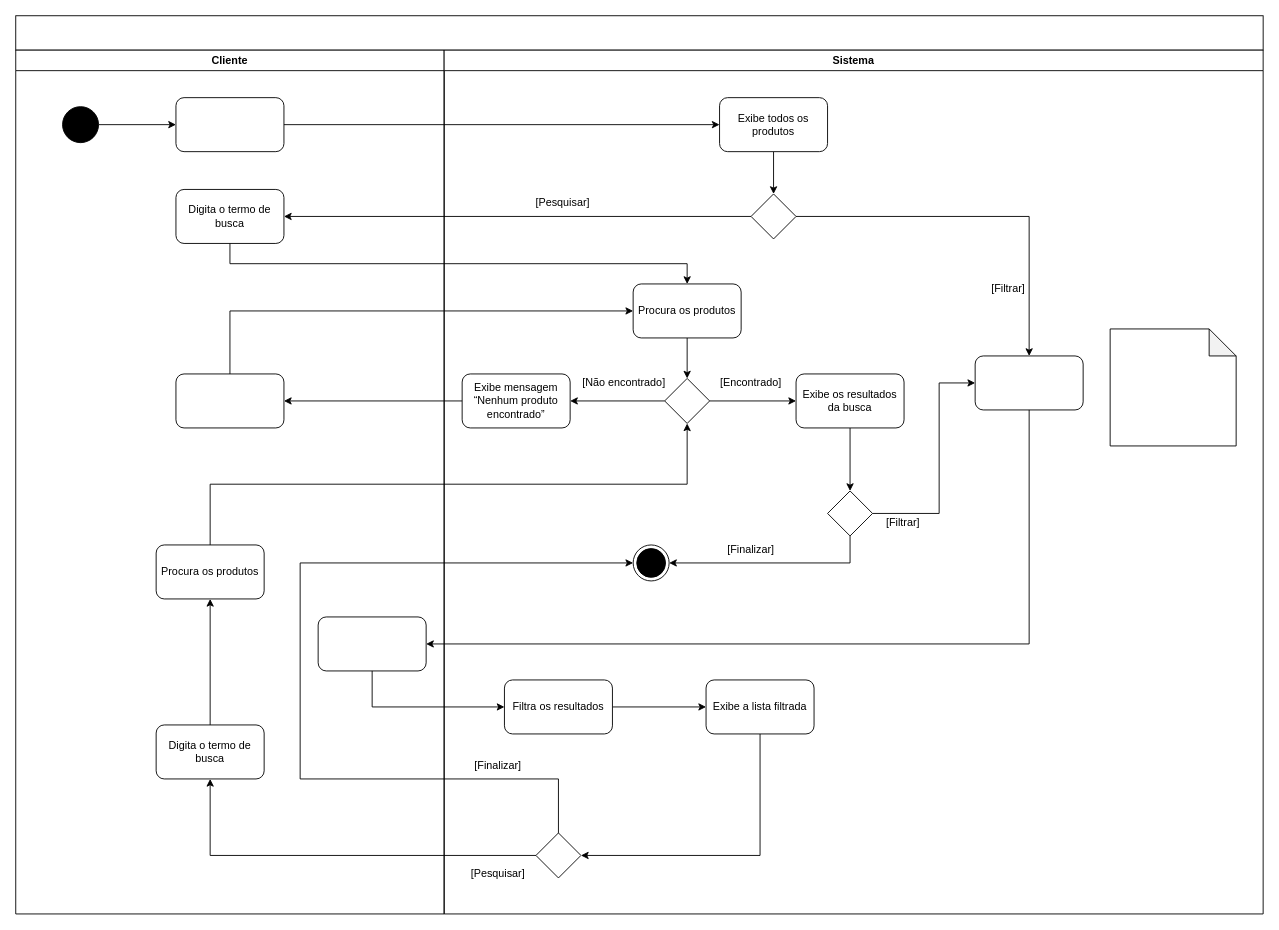
Image size: 1279x930. Some labels were removed from this diagram. Each missing label, with the centre of its shape:
"Acessa a página de catálogo" goes at (x=229, y=124).
"Diagrama de Atividade: Pesquisar Produto" goes at (x=639, y=32).
"Digita outro termo de busca" goes at (x=229, y=400).
"Exibe opções de filtro" goes at (x=1028, y=382).
"Filtro de pesquisa: Categoria Preço Nome Disponibilidade" goes at (x=1172, y=387).
"Seleciona os filtros desejados" goes at (x=371, y=643).
